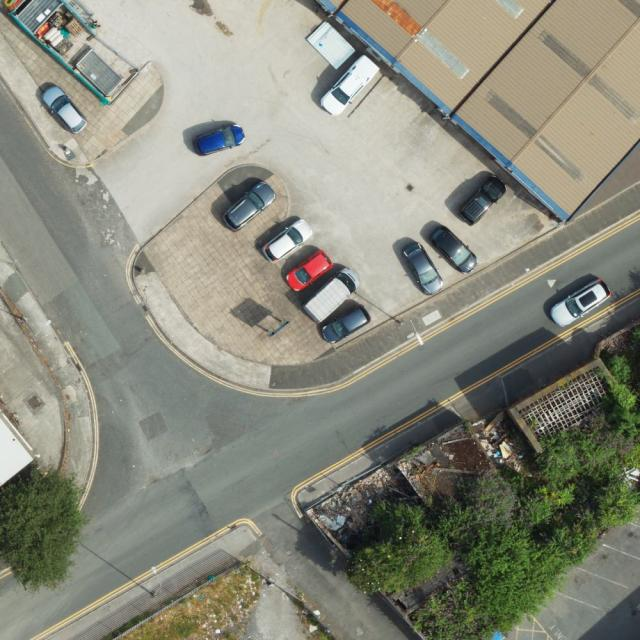roof: (319, 1, 640, 222)
